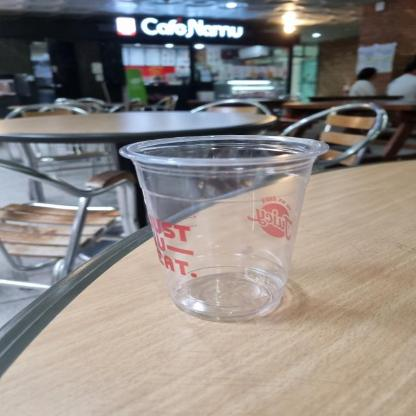Plastic Cup: (117, 134, 331, 326)
